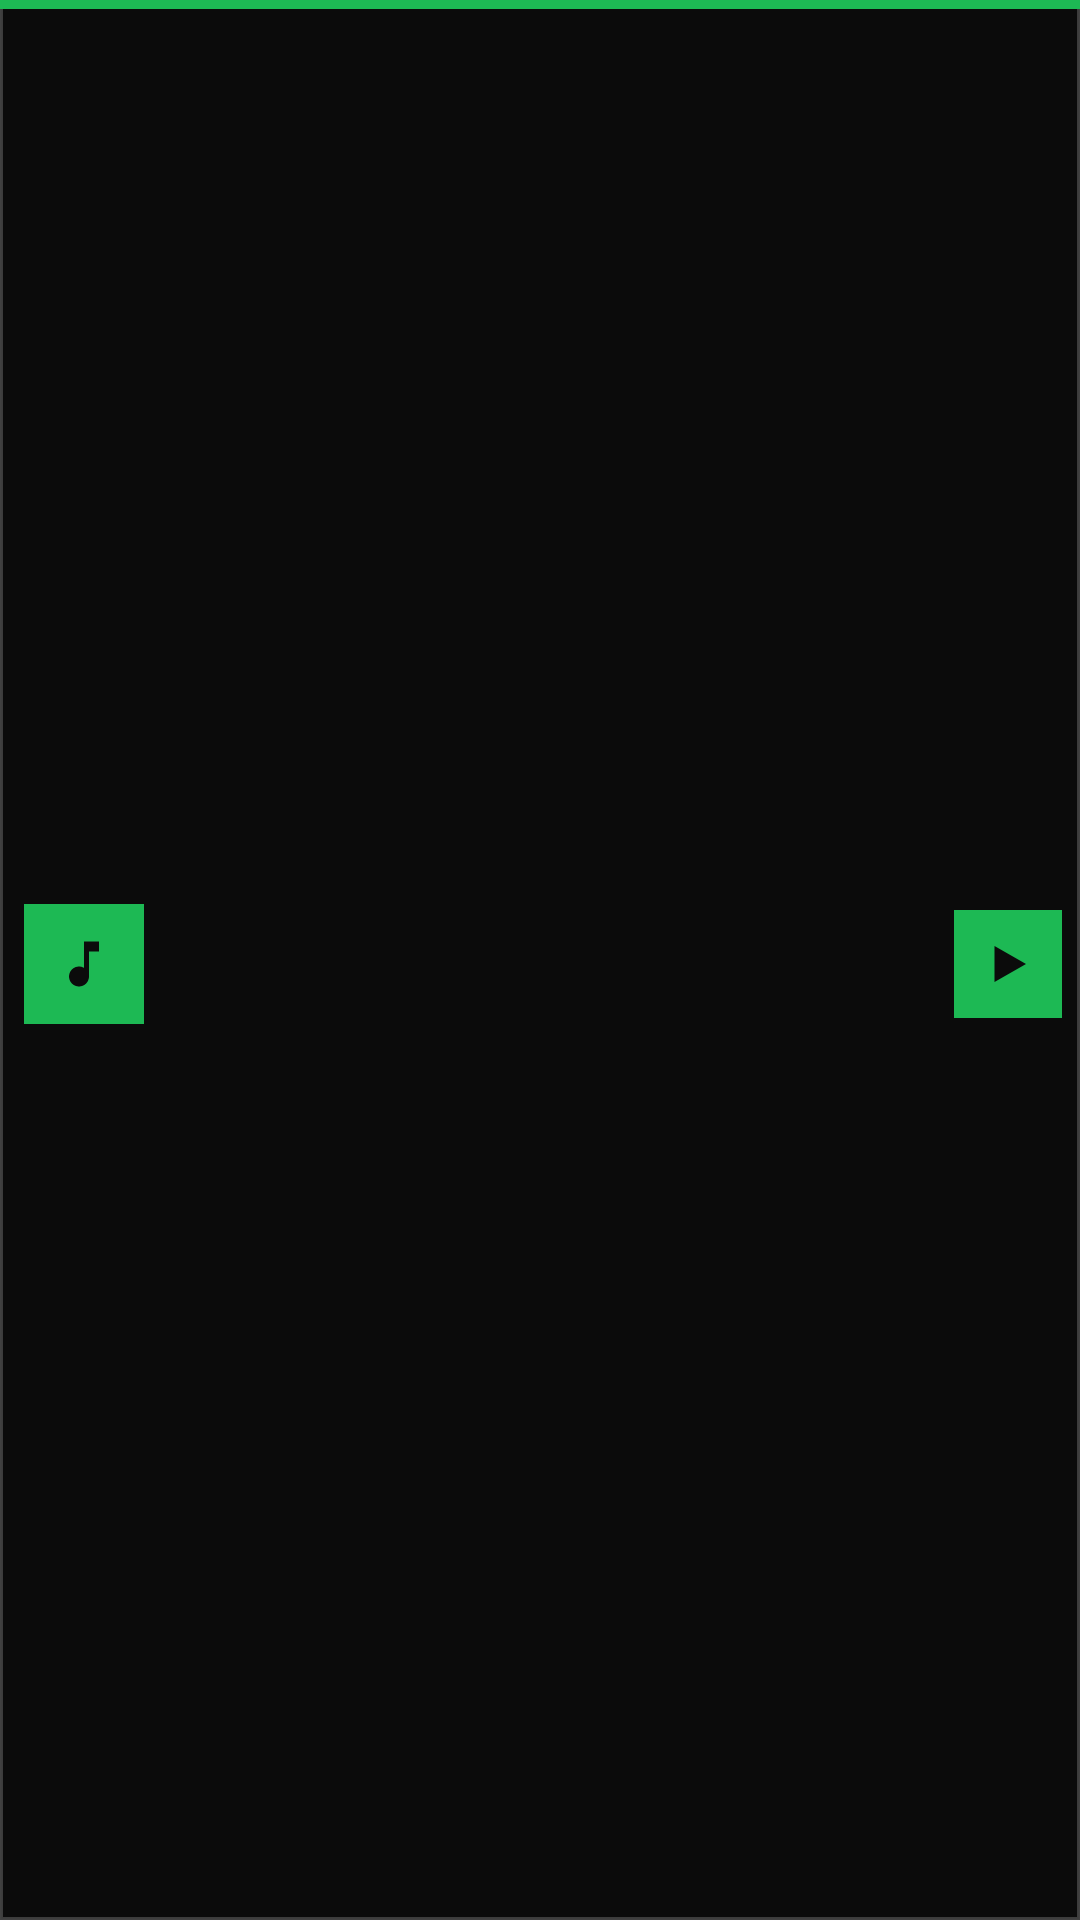

Where icons sit on this 1080px x 1920px app screen, as (x1, y1, x2, y2):
widget note: (69, 941, 99, 987)
widget play: (954, 910, 1062, 1018)
